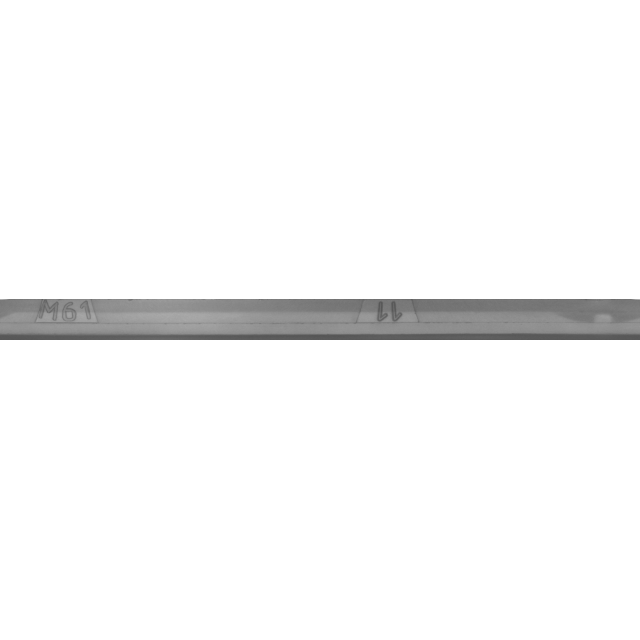mohao: (0, 270, 169, 370)
xuehao: (284, 270, 484, 370)
